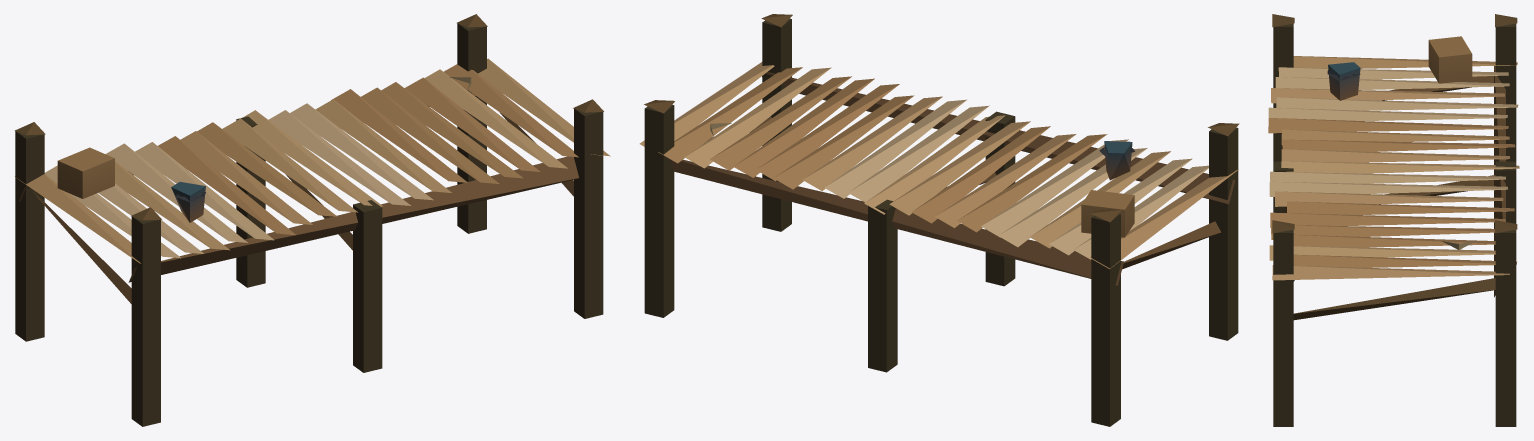
The model's file is river_dock-lod1.glb.
3 renders of one model, left to right at view 1: azimuth 30°, elevation 25°; view 2: azimuth 150°, elevation 25°; view 3: azimuth 270°, elevation 25°, orthographic. The views are drawn at different scales.
Parts seen in each view (by area): view 1: river_dock; view 2: river_dock; view 3: river_dock.
Part boxes in pixels (x1=…): river_dock: x1=14, y1=14, x2=610, y2=426; river_dock: x1=639, y1=14, x2=1239, y2=426; river_dock: x1=1268, y1=14, x2=1519, y2=426.
Bounding box in the file's own units: 6.08 × 2.55 × 2.94.
